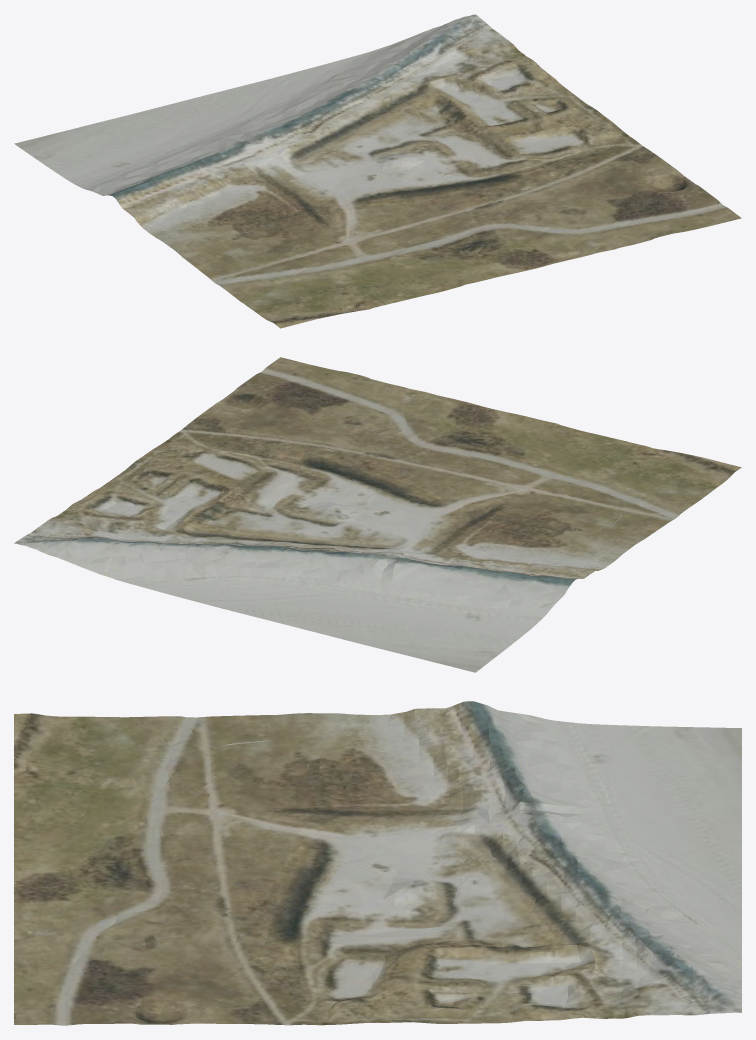
The picture shows the model from 3 angles, top to bottom: view 1: azimuth 30°, elevation 25°; view 2: azimuth 150°, elevation 25°; view 3: azimuth 270°, elevation 25°; orthographic projection. The views are drawn at different scales.
Size of the model in its own units: 209 by 8.98 by 209.
Materials: 3 (3 with a texture image).
